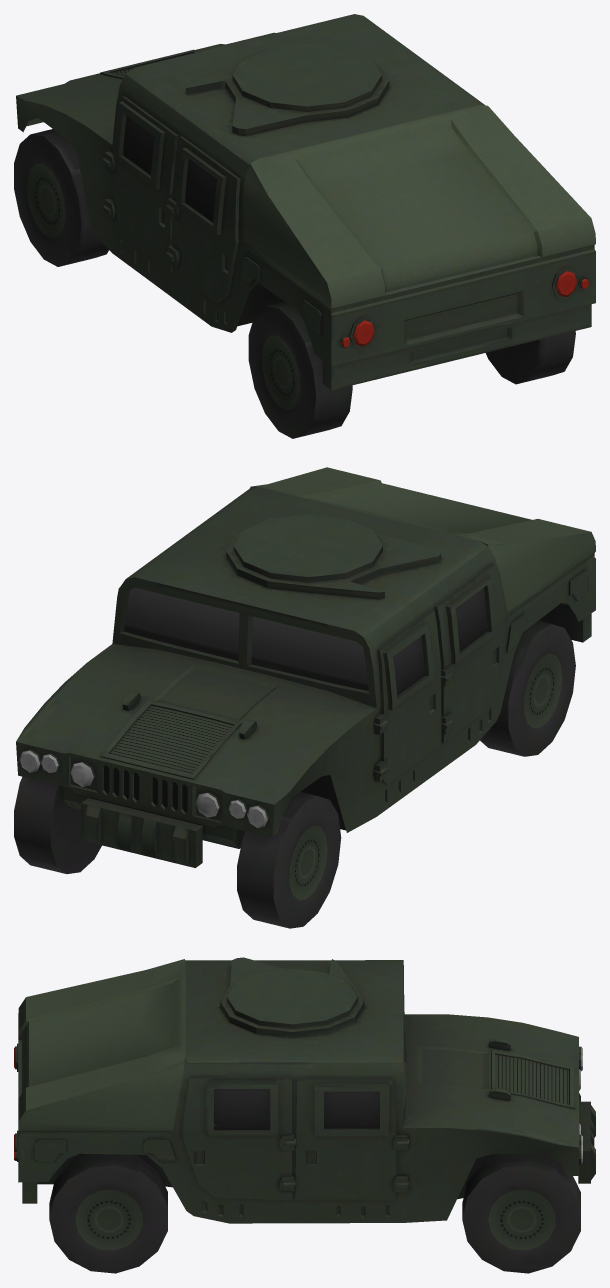
File: humvee.obj
3 renders of one model, top to bottom at view 1: azimuth 30°, elevation 25°; view 2: azimuth 150°, elevation 25°; view 3: azimuth 270°, elevation 25°, orthographic. The views are drawn at different scales.
Parts seen in each view (by area): view 1: Plane; view 2: Plane; view 3: Plane.
Boxes of the visible parts, left/top/right/bottom form: Plane: left=14, top=14, right=595, bottom=438; Plane: left=14, top=467, right=595, bottom=928; Plane: left=14, top=957, right=595, bottom=1273.
Size of the model in its own units: 2.12 by 1.81 by 4.32.
Materials: 1 (1 with a texture image).
